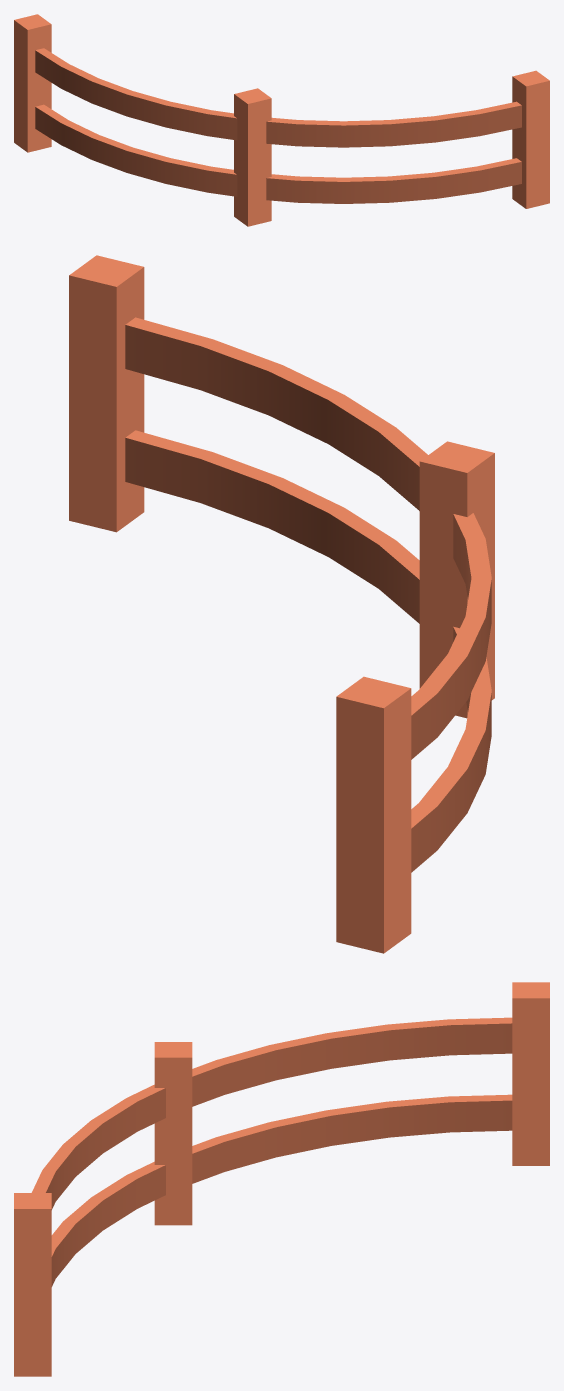
Rendered from fence_bendCenter.fbx.
The picture shows the model from 3 angles, top to bottom: view 1: azimuth 30°, elevation 25°; view 2: azimuth 150°, elevation 25°; view 3: azimuth 270°, elevation 25°; orthographic projection. The views are drawn at different scales.
Parts seen in each view (by area): view 1: fence_bendCenter; view 2: fence_bendCenter; view 3: fence_bendCenter.
Part boxes in pixels (x1,y1,x2,y2): fence_bendCenter: [14, 14, 549, 226]; fence_bendCenter: [69, 255, 494, 953]; fence_bendCenter: [14, 982, 549, 1376].
Bounding box in the file's own units: 10 × 3.45 × 10.
